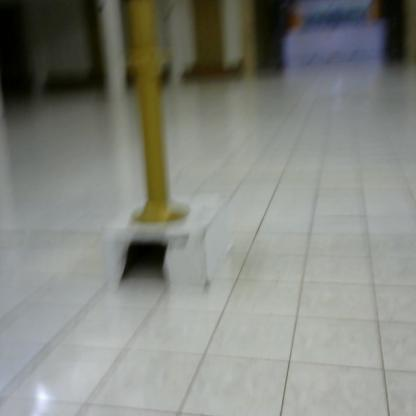pole: (110, 2, 203, 238)
